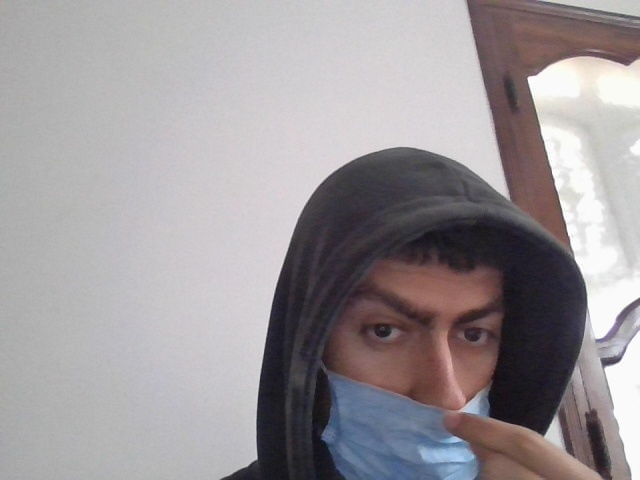mask_weared_incorrect: (309, 210, 526, 479)
